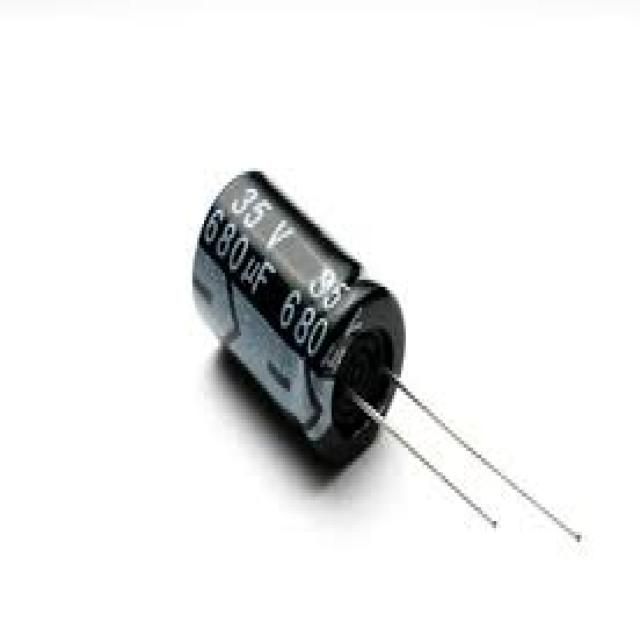Capacitor: (192, 171, 408, 469)
